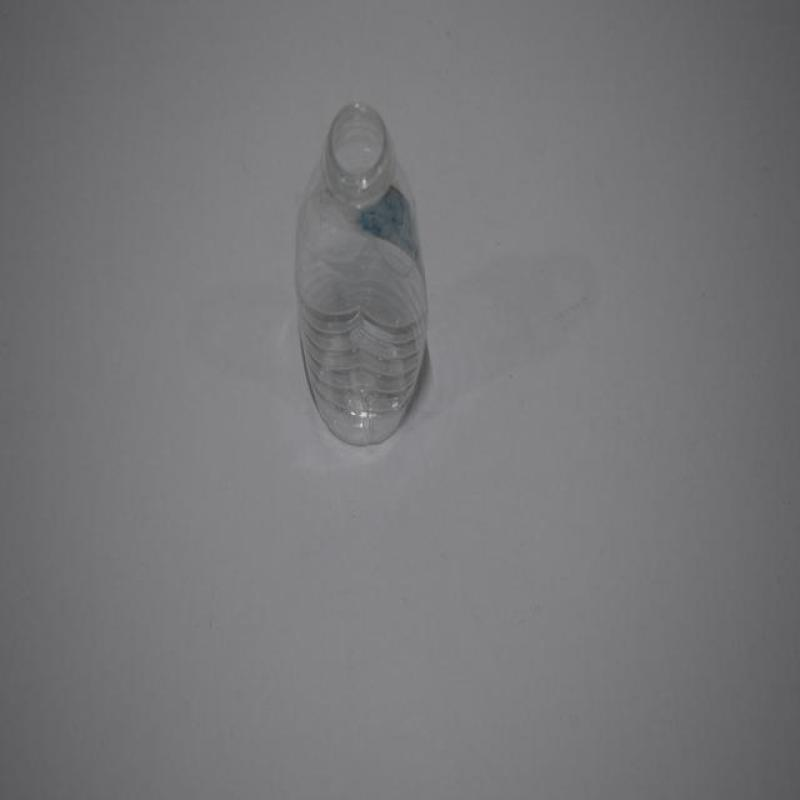botella: (292, 104, 427, 454)
